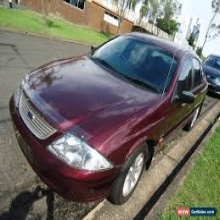no damage: (9, 31, 208, 205), (206, 52, 220, 98)
